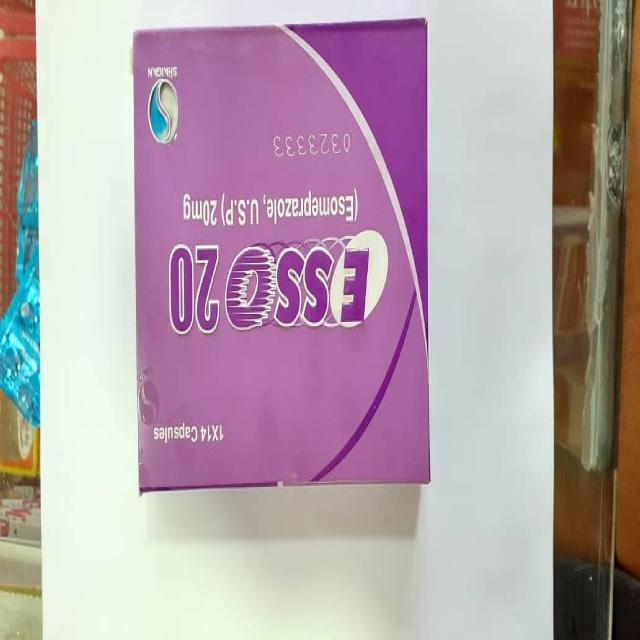drug-name: (164, 243, 370, 334)
